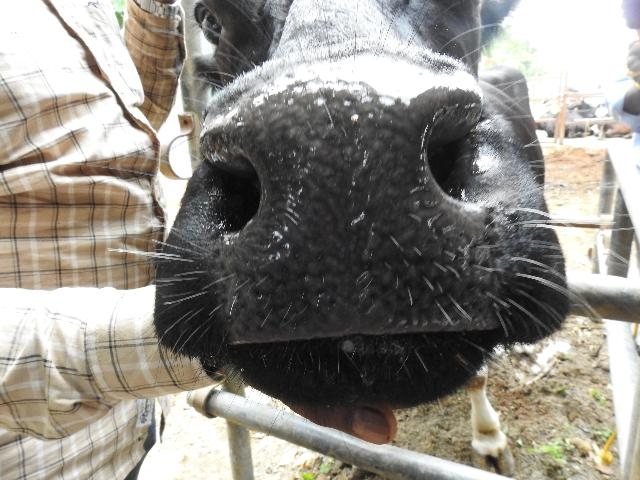Muzzle: (250, 103, 436, 322)
